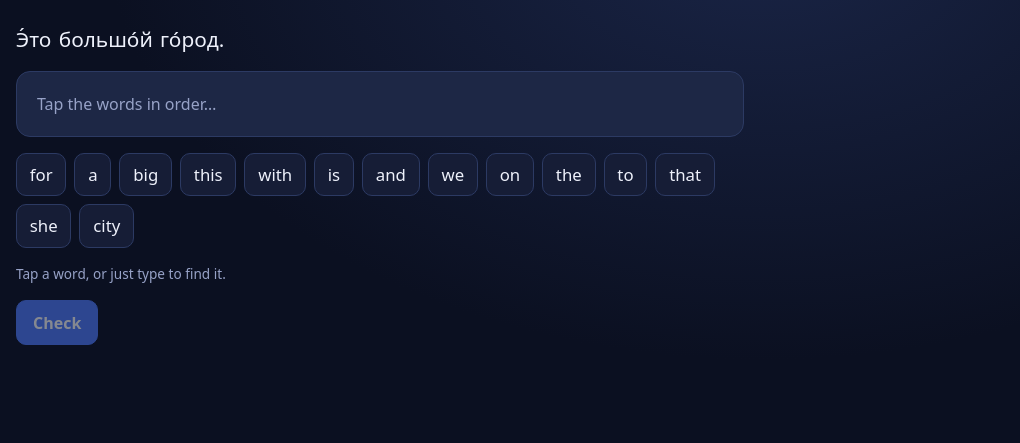
Test case: WordBankExercise order-insensitive grading (#267) › asks the learner to confirm a same-words reordering rather than auto-crediting
Click the button with class "tile" showing "this".
click(208, 175)  # box [180,153,236,196]
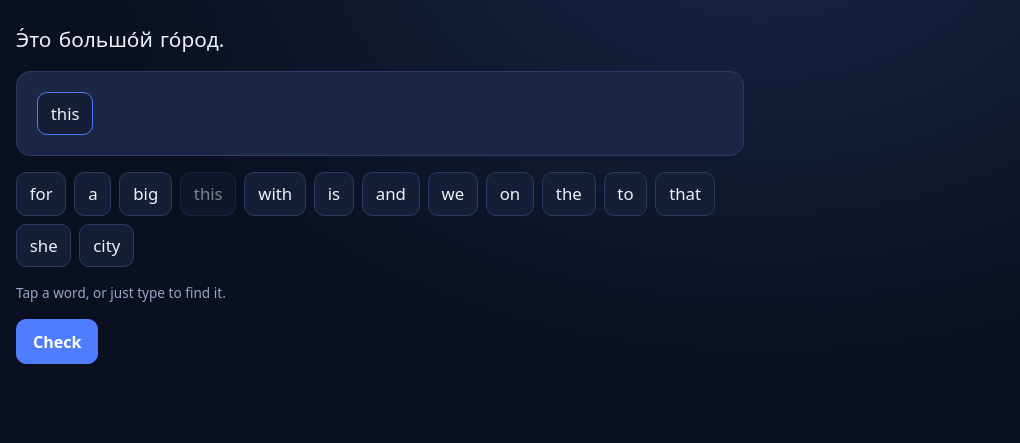
Click the button with class "tile" showing "city".
click(107, 245)  # box [80,224,134,267]
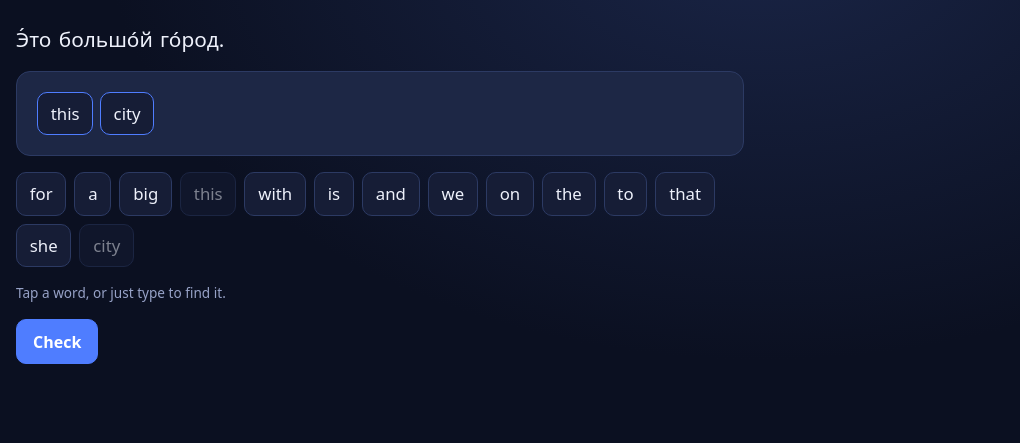
Click the button with class "tile" showing "is".
click(334, 194)  # box [314,172,354,216]
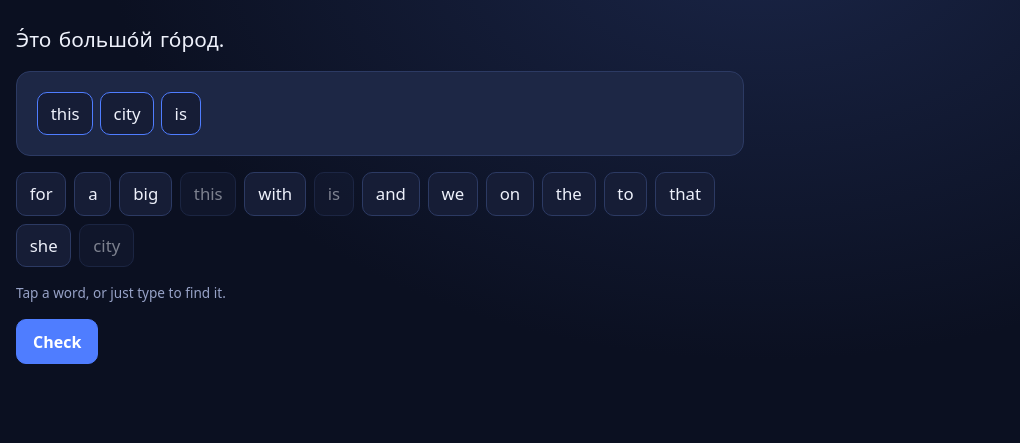
Click the button with class "tile" showing "big".
click(146, 194)  # box [120,172,172,216]
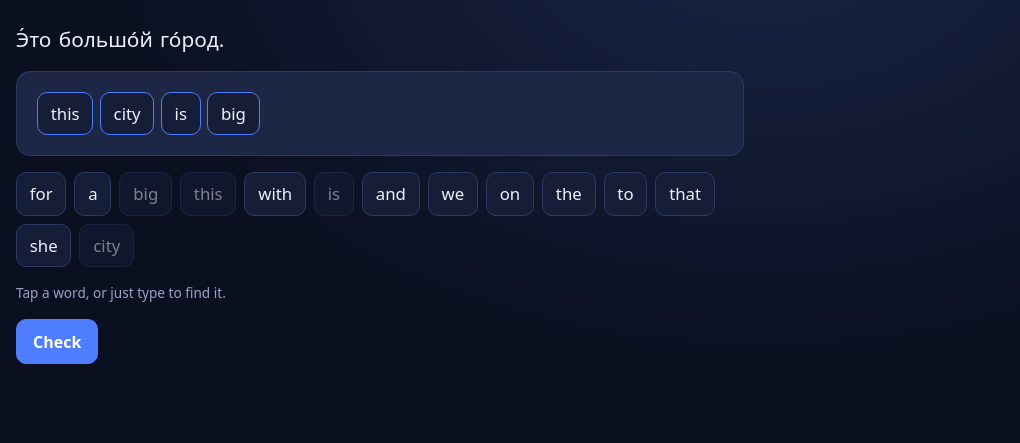
Click the button with class "check".
click(57, 342)  # box [16,319,98,364]
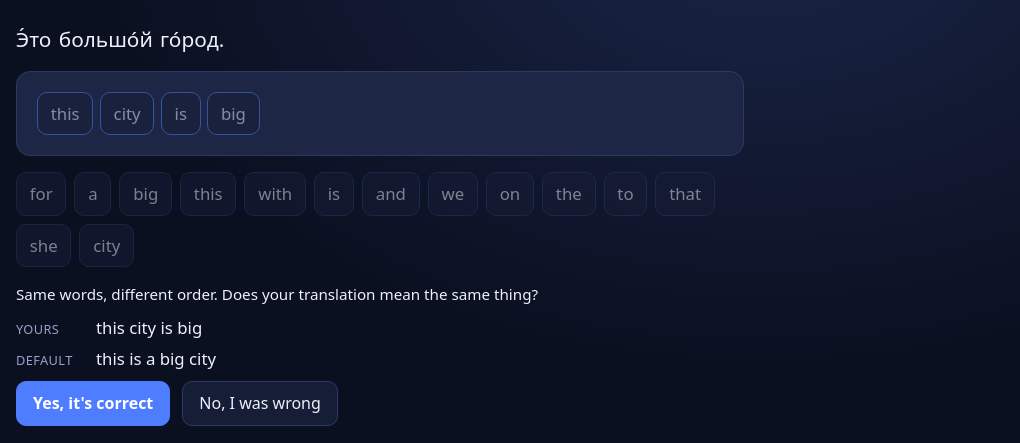
Expected: the text "Correct" is not shown
Result: the element with class "confirm" is shown at [16,284,538,426]
